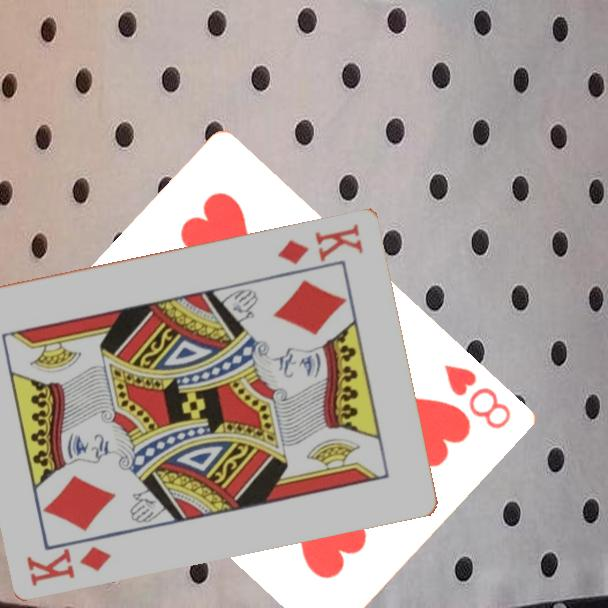d13: (275, 220, 367, 267), (23, 542, 115, 589)
h08: (441, 360, 515, 432)
